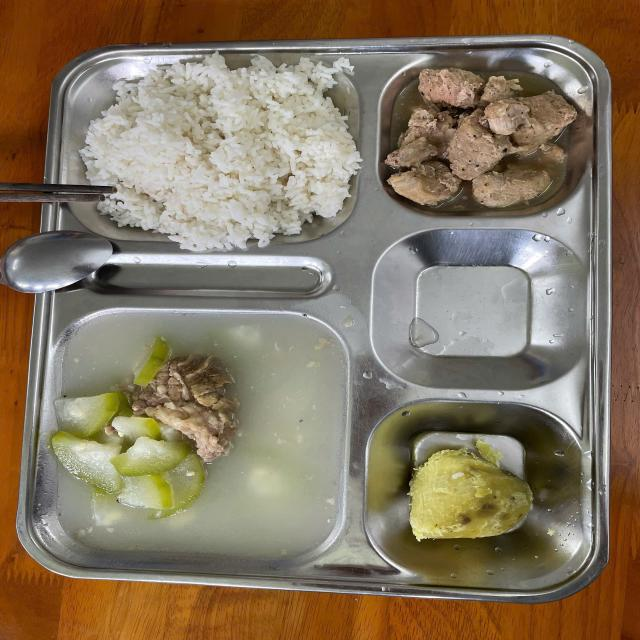canhbau: (58, 321, 342, 564)
khoailang: (410, 443, 532, 544)
salad: (82, 69, 362, 250)
thitram: (395, 69, 564, 211)
